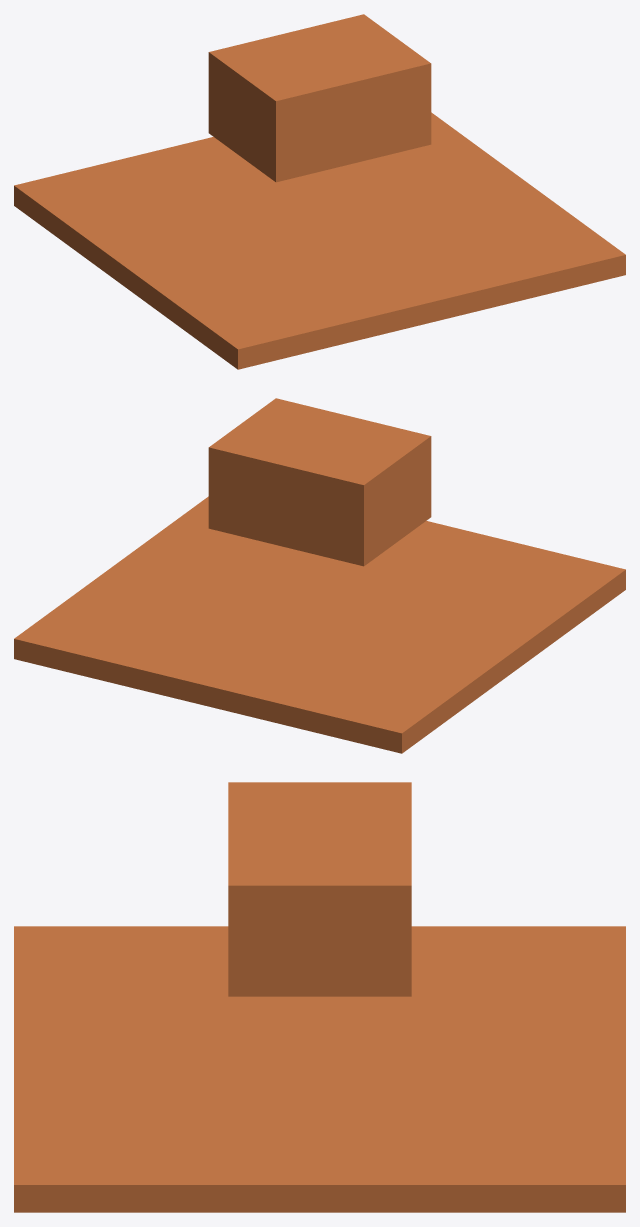
3 renders of one model, top to bottom at view 1: azimuth 30°, elevation 25°; view 2: azimuth 150°, elevation 25°; view 3: azimuth 270°, elevation 25°, orthographic. The views are drawn at different scales.
Parts seen in each view (by area): view 1: part; view 2: part; view 3: part.
Part boxes in pixels (left/top/right/bottom): part: left=14, top=14, right=625, bottom=369; part: left=14, top=398, right=625, bottom=753; part: left=14, top=782, right=625, bottom=1212.
Bounding box in the file's own units: 100 × 45 × 100.
